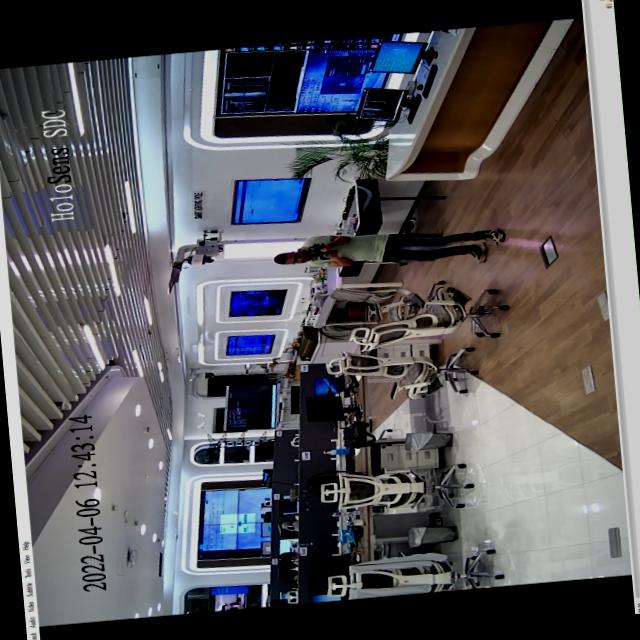long weapon: (304, 236, 344, 266)
